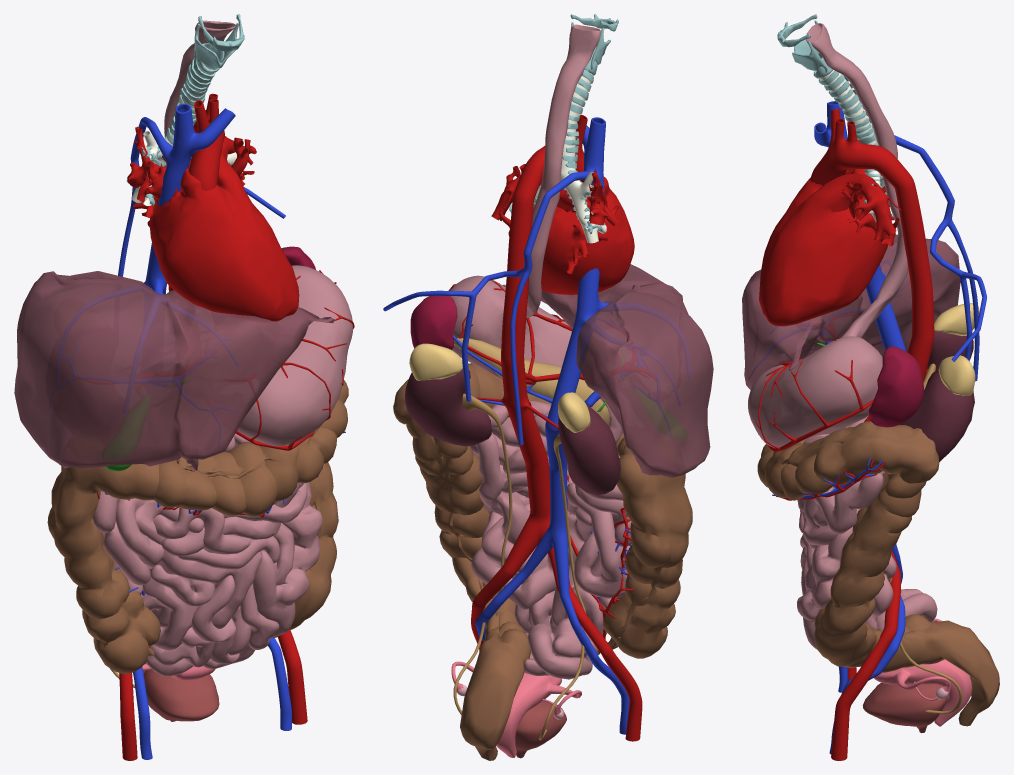
Rendered from abdomen.fbx.
3 views of the same model, side by side, from view 1: azimuth 30°, elevation 25°; view 2: azimuth 150°, elevation 25°; view 3: azimuth 270°, elevation 25° (orthographic). The views are drawn at different scales.
Visible parts, largest first — view 1: Lever_liver_mat_0.001, Intestine_Small_Dunne_darms_stomach_mat_0, Intestine_Large_Dikke_darms_large_int_mat_0, Heart_arteries_mat_0.001, Vein_1_veins_mat_0.001, Artery_1_arteries_mat_0.001, Bladder_Blaas_bladder_mat_0.001, Cartilage_throat_cartilage_mat_0.001, Gallbladder_Galblaas_gallbladder_mat_0.001, Cartilage_trachea_cartilage_mat_0.001, Artery_2_arteries_mat_0.001, Vein_3_veins_mat_0.001 (+1 smaller); view 2: Intestine_Small_Dunne_darms_stomach_mat_0, Intestine_Large_Dikke_darms_large_int_mat_0, Lever_liver_mat_0.001, Vein_1_veins_mat_0.001, Artery_1_arteries_mat_0.001, Heart_arteries_mat_0.001, Kidney_L_kidneys_mat_0.001, Kidney_R_kidneys_mat_0.001, Uterus1_uterus_mat_0.001, Spleen_Milt_spleen_mat_0.001, Pancreas_pancreas_mat_0.001, Trachea_trachea_mat_0.001 (+11 smaller); view 3: Intestine_Large_Dikke_darms_large_int_mat_0, Intestine_Small_Dunne_darms_stomach_mat_0, Heart_arteries_mat_0.001, Artery_1_arteries_mat_0.001, Lever_liver_mat_0.001, Vein_1_veins_mat_0.001, Spleen_Milt_spleen_mat_0.001, Kidney_L_kidneys_mat_0.001, Bladder_Blaas_bladder_mat_0.001, Uterus1_uterus_mat_0.001, Artery_2_arteries_mat_0.001, Cartilage_trachea_cartilage_mat_0.001 (+7 smaller).
Boxes of the visible parts, x1,y1,x2,y2 form: Lever_liver_mat_0.001: (14,271,334,470); Intestine_Small_Dunne_darms_stomach_mat_0: (92,20,352,676); Intestine_Large_Dikke_darms_large_int_mat_0: (47,379,348,673); Heart_arteries_mat_0.001: (127,126,299,321); Vein_1_veins_mat_0.001: (56,103,291,759); Artery_1_arteries_mat_0.001: (119,93,307,760); Bladder_Blaas_bladder_mat_0.001: (143,670,219,721); Cartilage_throat_cartilage_mat_0.001: (194,14,244,72); Gallbladder_Galblaas_gallbladder_mat_0.001: (102,377,190,471); Cartilage_trachea_cartilage_mat_0.001: (126,57,231,205); Artery_2_arteries_mat_0.001: (77,270,354,450); Vein_3_veins_mat_0.001: (50,339,234,446); Intestine_Small_Dunne_darms_stomach_mat_0: (449,24,631,679); Intestine_Large_Dikke_darms_large_int_mat_0: (393,363,692,760); Lever_liver_mat_0.001: (503,264,713,477); Vein_1_veins_mat_0.001: (383,117,690,734); Artery_1_arteries_mat_0.001: (471,114,642,741); Heart_arteries_mat_0.001: (491,164,634,294); Kidney_L_kidneys_mat_0.001: (405,369,491,446); Kidney_R_kidneys_mat_0.001: (558,403,620,495); Uterus1_uterus_mat_0.001: (451,661,581,757); Spleen_Milt_spleen_mat_0.001: (410,296,457,349); Pancreas_pancreas_mat_0.001: (453,338,609,425); Trachea_trachea_mat_0.001: (509,73,606,243); Intestine_Large_Dikke_darms_large_int_mat_0: (757,421,999,726); Intestine_Small_Dunne_darms_stomach_mat_0: (748,23,937,667); Heart_arteries_mat_0.001: (759,169,901,326); Artery_1_arteries_mat_0.001: (810,108,934,760); Lever_liver_mat_0.001: (742,234,960,389); Vein_1_veins_mat_0.001: (769,101,986,754); Spleen_Milt_spleen_mat_0.001: (868,346,923,427); Kidney_L_kidneys_mat_0.001: (900,369,974,461); Bladder_Blaas_bladder_mat_0.001: (862,682,947,733); Uterus1_uterus_mat_0.001: (874,618,971,726); Artery_2_arteries_mat_0.001: (755,313,873,452); Cartilage_trachea_cartilage_mat_0.001: (818,70,892,216).
Bounding box in the file's own units: 120 × 292 × 96.73.
